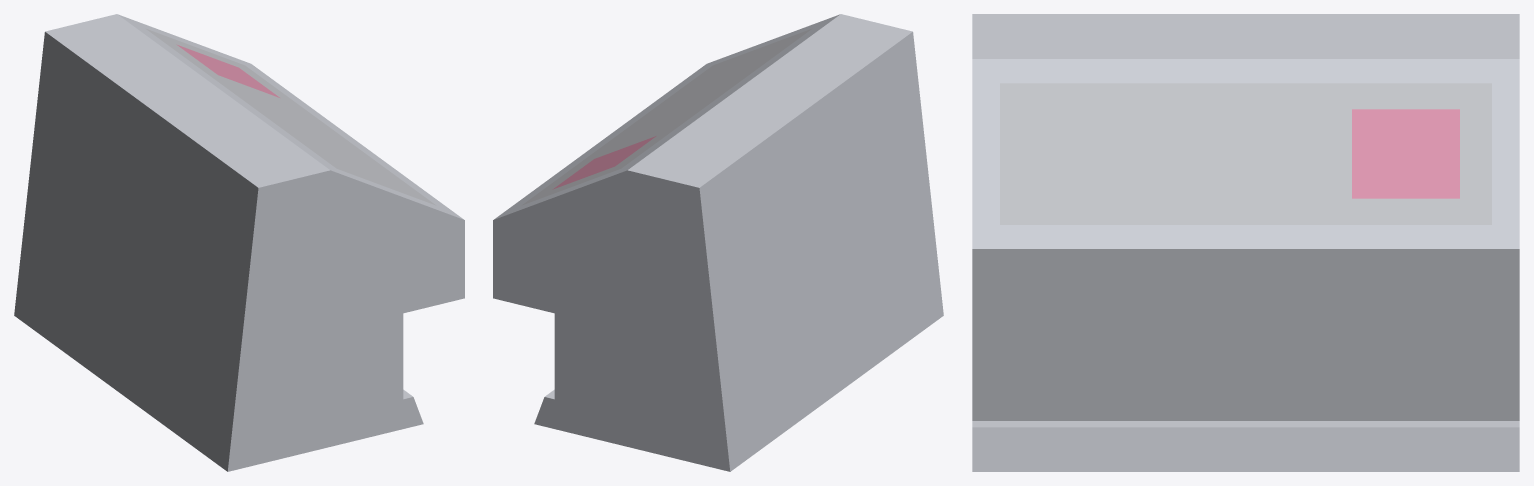
Rendered from KSI_console.glb.
3 renders of one model, left to right at view 1: azimuth 30°, elevation 25°; view 2: azimuth 150°, elevation 25°; view 3: azimuth 270°, elevation 25°, orthographic. The views are drawn at different scales.
Parts seen in each view (by area): view 1: tmpParent; view 2: tmpParent; view 3: tmpParent.
Part boxes in pixels (left/top/right/bottom): tmpParent: left=14, top=14, right=464, bottom=471; tmpParent: left=493, top=14, right=943, bottom=471; tmpParent: left=972, top=14, right=1519, bottom=471.
Size of the model in its own units: 0.298 by 0.3321 by 0.4648.
